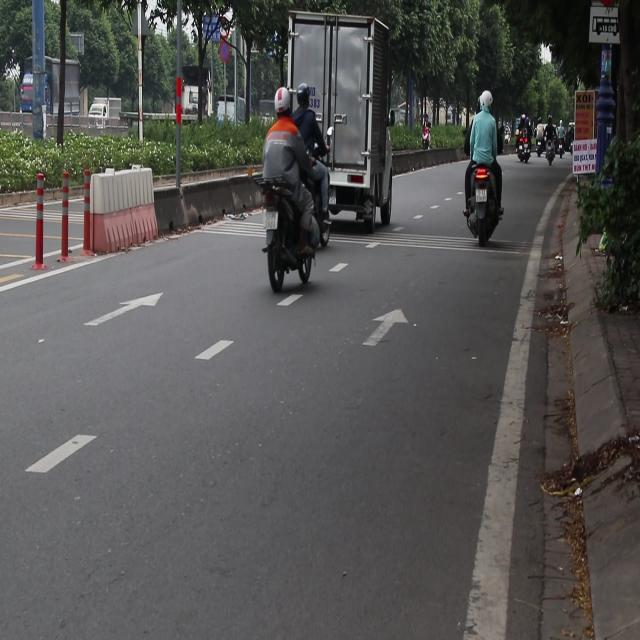motorbike: (257, 175, 321, 292), (463, 160, 505, 246), (409, 126, 443, 165), (545, 138, 561, 171), (516, 140, 530, 164), (534, 135, 546, 162)
truck: (286, 14, 392, 230), (11, 66, 82, 136), (90, 99, 122, 127)
